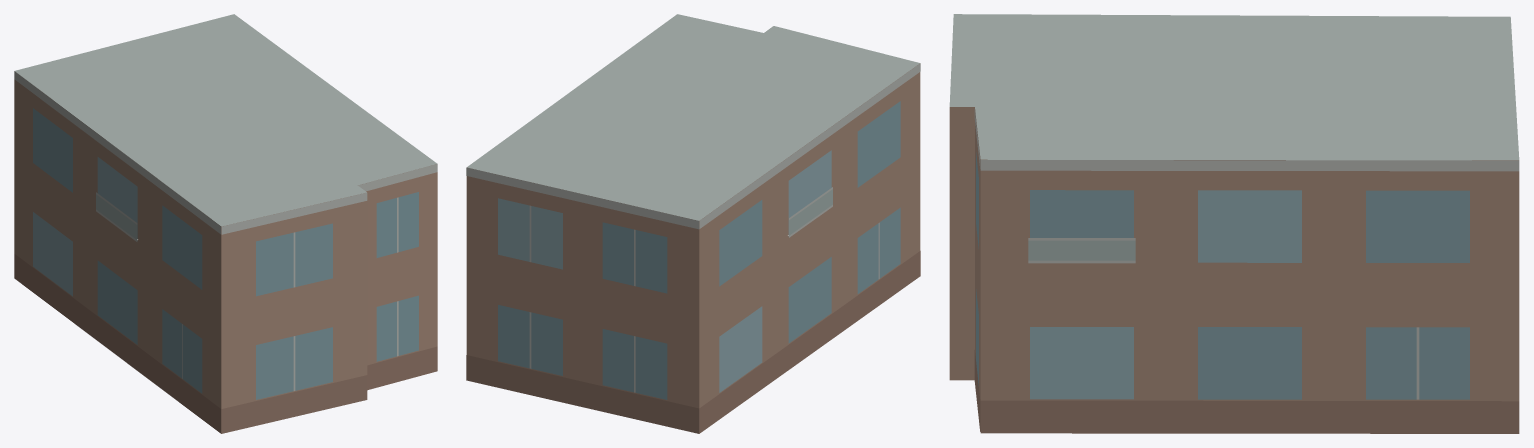
Rendered from survey-upis-32915091.glb.
The picture shows the model from 3 angles, left to right: view 1: azimuth 30°, elevation 25°; view 2: azimuth 150°, elevation 25°; view 3: azimuth 270°, elevation 25°; orthographic projection. The views are drawn at different scales.
Parts seen in each view (by area): view 1: survey-upis-32915091.tmp; view 2: survey-upis-32915091.tmp; view 3: survey-upis-32915091.tmp.
Boxes of the visible parts, x1,y1,x2,y2 form: survey-upis-32915091.tmp: (14,14,437,433); survey-upis-32915091.tmp: (466,14,920,433); survey-upis-32915091.tmp: (949,14,1519,433).
Size of the model in its own units: 7.02 by 6.1 by 11.53.
